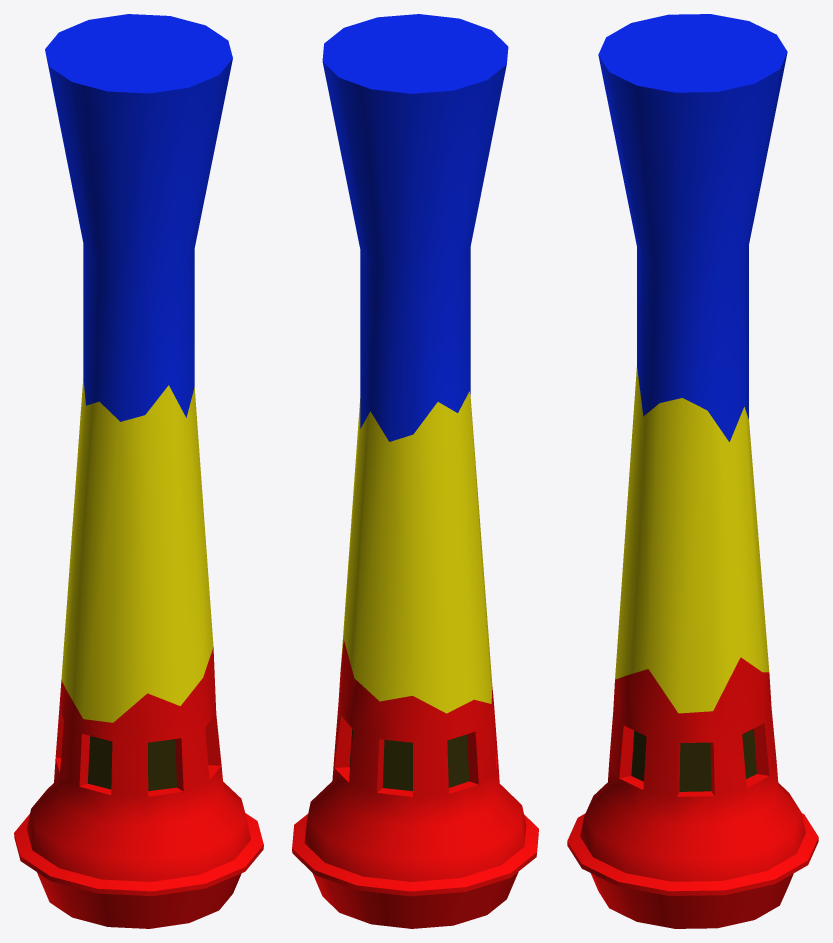
Rendered from body_J.FBX.
3 views of the same model, side by side, from view 1: azimuth 30°, elevation 25°; view 2: azimuth 150°, elevation 25°; view 3: azimuth 270°, elevation 25° (orthographic).
Visible parts, largest first — view 1: pillar_J_bodyup, pillar_J_bodymiddle, pillar_J_bodydown, pillar_J_glass; view 2: pillar_J_bodyup, pillar_J_bodydown, pillar_J_bodymiddle, pillar_J_glass; view 3: pillar_J_bodyup, pillar_J_bodydown, pillar_J_bodymiddle, pillar_J_glass.
Part boxes in pixels (box(x1,y1,x2,y2)): pillar_J_bodyup: box(45, 14, 232, 421); pillar_J_bodymiddle: box(61, 379, 213, 722); pillar_J_bodydown: box(14, 647, 263, 928); pillar_J_glass: box(87, 736, 176, 790); pillar_J_bodyup: box(322, 14, 508, 441); pillar_J_bodydown: box(292, 639, 538, 928); pillar_J_bodymiddle: box(340, 391, 492, 713); pillar_J_glass: box(349, 729, 469, 791); pillar_J_bodyup: box(598, 14, 787, 441); pillar_J_bodydown: box(567, 657, 818, 928); pillar_J_bodymiddle: box(615, 367, 769, 713); pillar_J_glass: box(631, 728, 756, 791).
Size of the model in its own units: 10.44 by 38.95 by 10.61.
